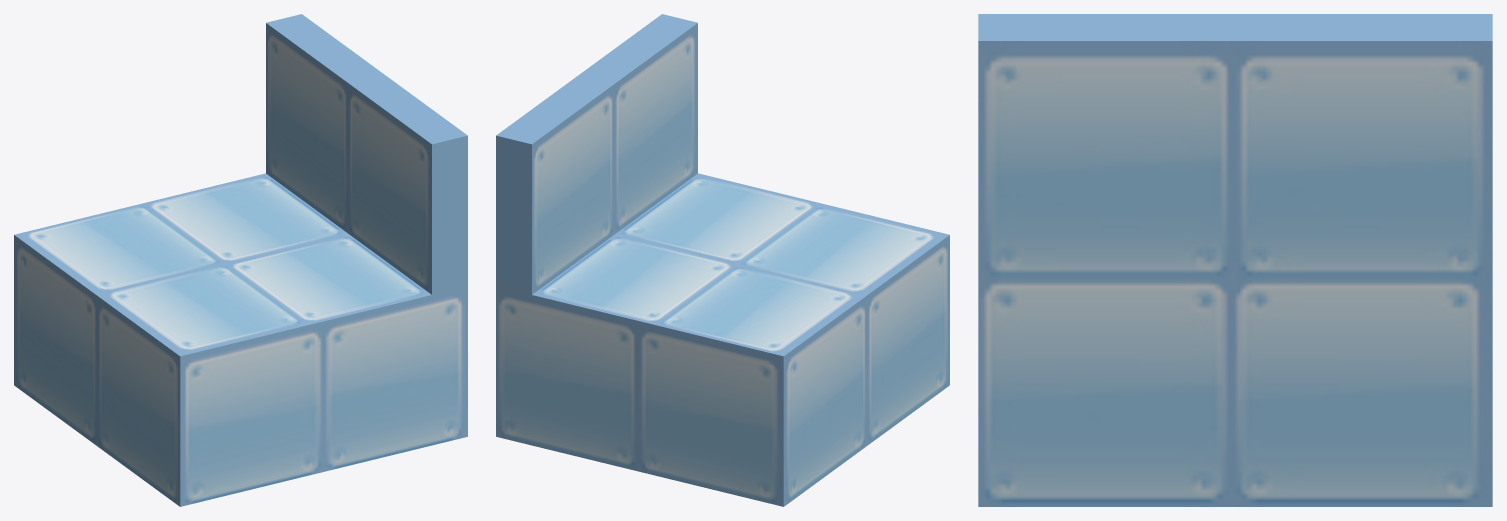
File: dangerfloor1c.FBX
3 renders of one model, left to right at view 1: azimuth 30°, elevation 25°; view 2: azimuth 150°, elevation 25°; view 3: azimuth 270°, elevation 25°, orthographic. The views are drawn at different scales.
Parts seen in each view (by area): view 1: dangerfloor1c; view 2: dangerfloor1c; view 3: dangerfloor1c.
Boxes of the visible parts, left/top/right/bottom form: dangerfloor1c: left=14, top=14, right=467, bottom=506; dangerfloor1c: left=496, top=14, right=949, bottom=506; dangerfloor1c: left=978, top=14, right=1492, bottom=506.
Bounding box in the file's own units: 39.37 × 39.37 × 39.37.
1 material, 1 textured.
